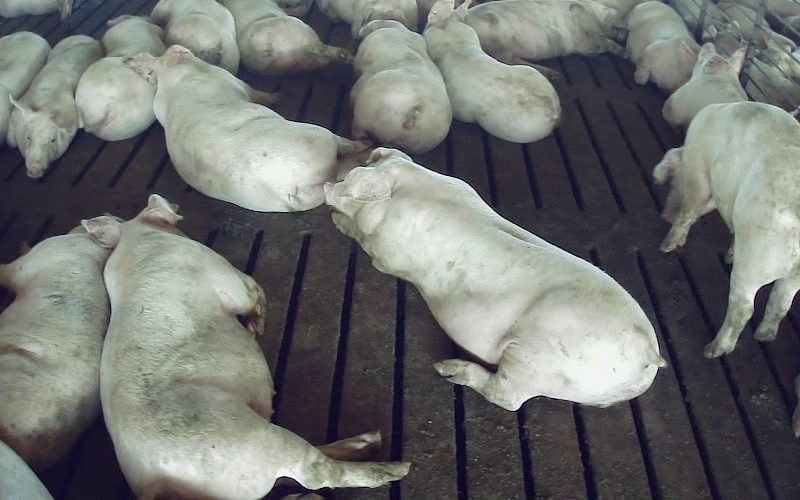pig: (83, 195, 408, 499), (325, 148, 664, 410), (129, 45, 369, 210), (653, 101, 799, 357), (0, 226, 111, 468), (423, 0, 560, 142), (7, 35, 102, 177), (350, 19, 451, 152), (465, 0, 624, 78), (75, 15, 165, 140), (220, 0, 352, 74), (626, 2, 700, 91), (150, 0, 239, 73)
